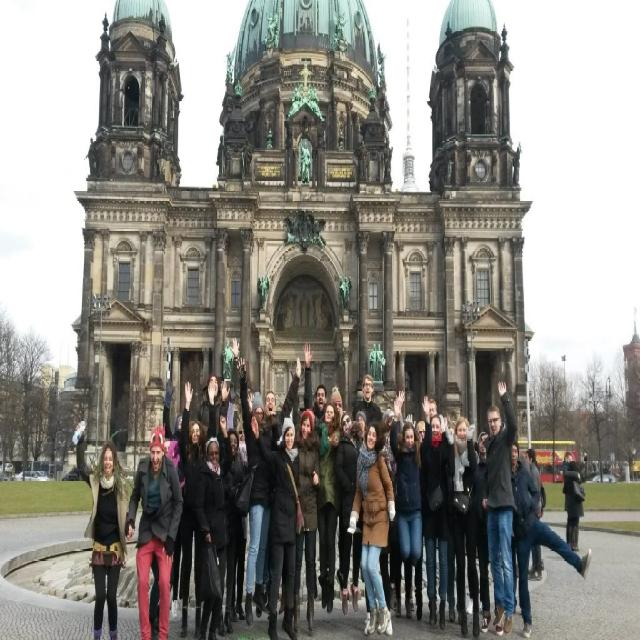body: (222, 7, 392, 191), (510, 439, 593, 640), (70, 414, 134, 639), (124, 418, 184, 639), (250, 407, 305, 639), (236, 353, 282, 628), (175, 379, 218, 639), (478, 379, 521, 638), (346, 420, 396, 636), (354, 419, 396, 637), (442, 411, 482, 639), (194, 413, 234, 639), (290, 368, 322, 638), (388, 389, 434, 569), (302, 340, 330, 601), (420, 408, 452, 629), (162, 375, 190, 621), (262, 386, 293, 606), (377, 388, 406, 612), (335, 411, 364, 618), (476, 431, 504, 638), (316, 400, 341, 616), (215, 430, 240, 638), (225, 427, 248, 623), (198, 336, 240, 436), (330, 384, 346, 586), (524, 447, 547, 582), (414, 418, 426, 622), (561, 450, 581, 548), (465, 536, 486, 620), (350, 372, 383, 423), (568, 459, 586, 552), (446, 540, 462, 627), (394, 562, 416, 621), (163, 431, 185, 489), (427, 394, 457, 430), (262, 389, 288, 428), (148, 559, 160, 635), (368, 342, 386, 386), (221, 336, 235, 380), (256, 273, 272, 308), (353, 409, 368, 443), (339, 276, 351, 316)
